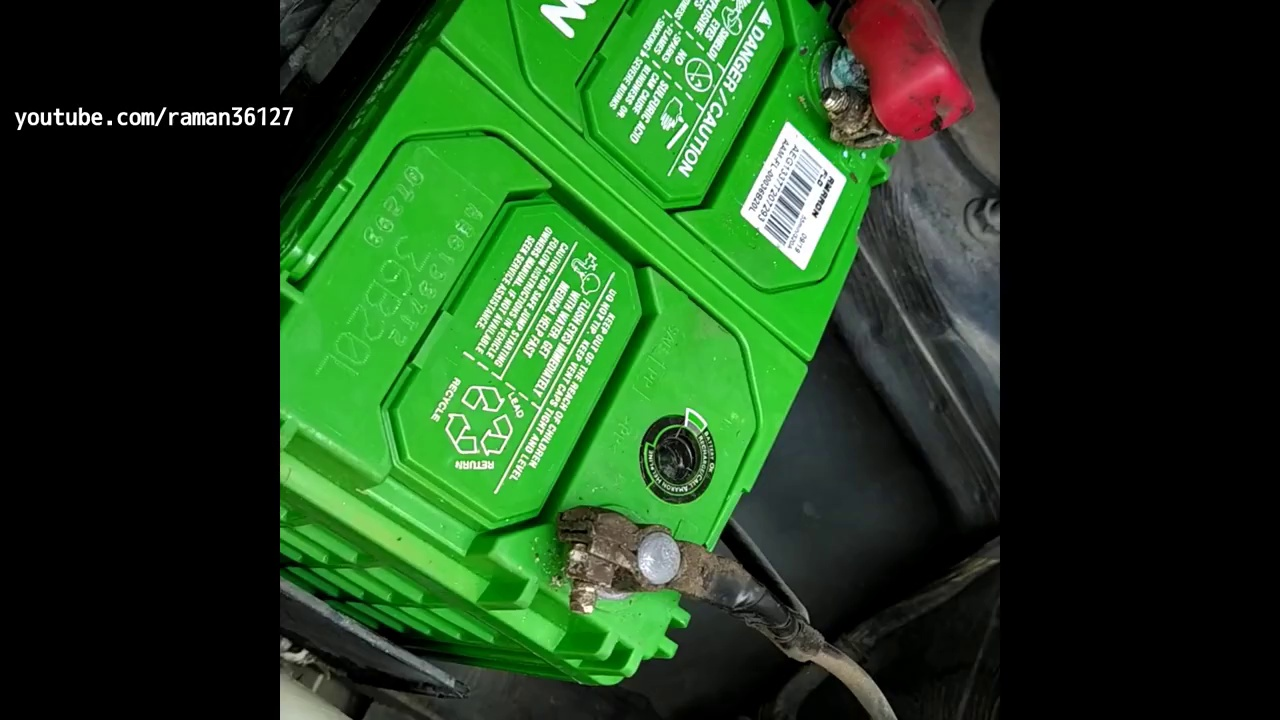battery: (307, 1, 990, 671)
neg_connected: (515, 482, 742, 632)
pos_connected: (768, 18, 973, 184)
